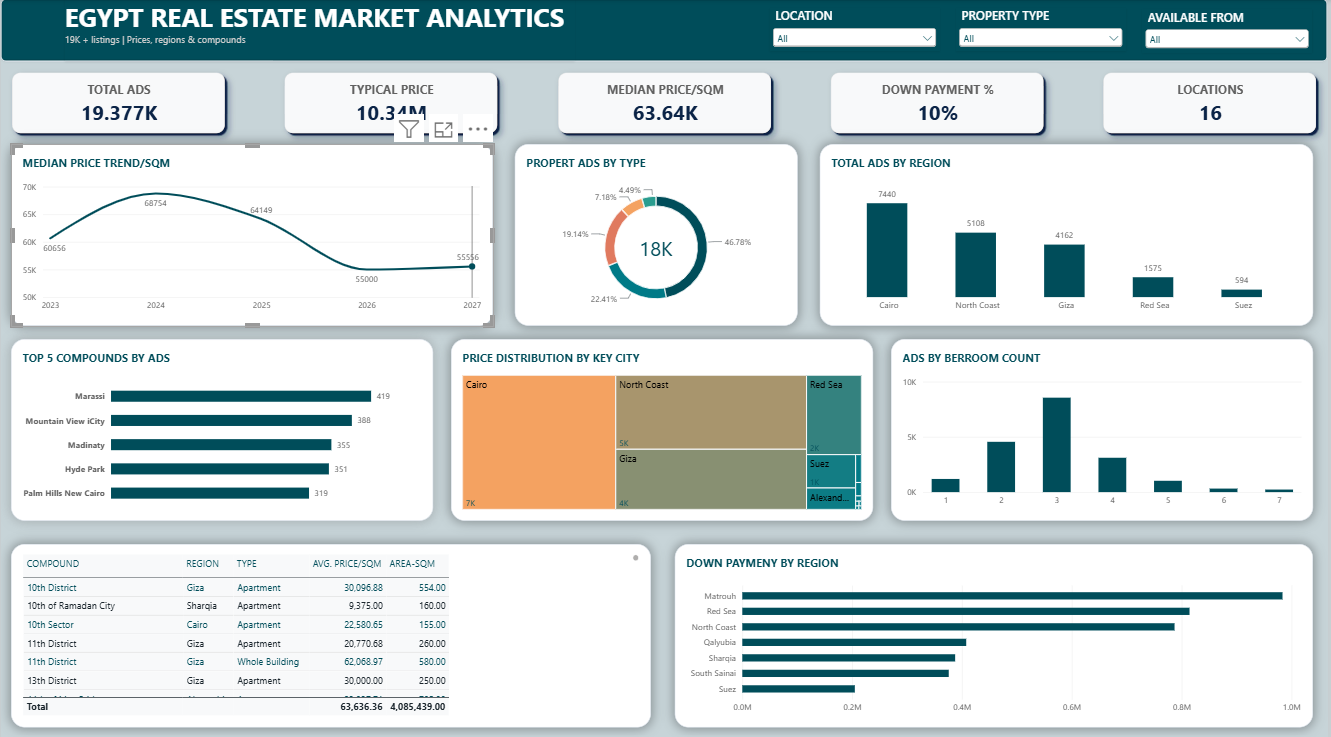

Layout of this report page (visuals, bound fields, positions):
{"tool":"powerbi","page":{"name":"Page 1","canvas":[1920,1080],"ordinal":0},"visuals":[{"type":"shape","box":[0,0,1920,90],"z":0},{"type":"textbox","box":[92.3,0,738.3,90.5],"z":1000},{"type":"slicer","fields":{"Values":["egypt_real_estate_clean.available_from"]},"box":[1652.2,14.5,246.1,63.3],"z":2000},{"type":"slicer","fields":{"Values":["egypt_real_estate_clean.type"]},"box":[1382.6,12.7,246.1,63.3],"z":3000},{"type":"slicer","fields":{"Values":["egypt_real_estate_clean.region"]},"box":[1112.9,12.7,246.1,63.3],"z":4000},{"type":"cardVisual","fields":{"Data":["Median(egypt_real_estate_clean.price)"]},"box":[395,90,340,120],"z":5000},{"type":"cardVisual","fields":{"Data":["Count(egypt_real_estate_clean.region)"]},"box":[1580,90,340,120],"z":6000},{"type":"cardVisual","fields":{"Data":["Median(egypt_real_estate_clean.price_per_sqm)"]},"box":[790,90,340,120],"z":7000},{"type":"cardVisual","fields":{"Data":["egypt_real_estate_clean.Total Listings"]},"box":[0,90,340,120],"z":8000},{"type":"cardVisual","fields":{"Data":["egypt_real_estate_clean.Median Down Payment %"]},"box":[1185,90,340,120],"z":9000},{"type":"lineChart","title":"MEDIAN PRICE TREND/SQM","fields":{"Category":["egypt_real_estate_clean.available_from.Variation.Date Hierarchy.Year"],"Y":["Median(egypt_real_estate_clean.price_per_sqm)"]},"box":[15,209.9,697.8,263.5],"z":10000},{"type":"donutChart","title":"PROPERT ADS BY TYPE","fields":{"Category":["egypt_real_estate_clean.type"],"Y":["egypt_real_estate_clean.Total Listings"]},"box":[744.1,209.9,409.6,263.5],"z":11000},{"type":"clusteredColumnChart","title":"TOTAL ADS BY REGION","fields":{"Category":["egypt_real_estate_clean.region"],"Y":["egypt_real_estate_clean.Total Listings"]},"box":[1185,209.9,714.2,263.5],"z":12000},{"type":"barChart","title":"TOP 5 COMPOUNDS BY ADS","fields":{"Category":["egypt_real_estate_clean.compound"],"Y":["egypt_real_estate_clean.Total Listings"]},"box":[14.4,491.9,611.3,263.5],"z":13000},{"type":"columnChart","title":"ADS BY BERROOM COUNT","fields":{"Category":["egypt_real_estate_clean.bedrooms_num"],"Y":["egypt_real_estate_clean.Total Listings"]},"box":[1288.5,491.9,611.3,263.5],"z":14000},{"type":"treemap","title":"PRICE DISTRIBUTION BY KEY CITY","fields":{"Group":["egypt_real_estate_clean.region"],"Values":["egypt_real_estate_clean.Total Listings"]},"box":[651.5,491.9,611.3,263.5],"z":15000},{"type":"tableEx","fields":{"Values":["egypt_real_estate_clean.compound","egypt_real_estate_clean.region","egypt_real_estate_clean.type","Median(egypt_real_estate_clean.price_per_sqm)","Sum(egypt_real_estate_clean.size_sqm)"]},"box":[14.4,788.3,926.2,265.5],"z":16000},{"type":"clusteredBarChart","title":"DOWN PAYMENY BY REGION","fields":{"Category":["egypt_real_estate_clean.region"],"Y":["Avg(egypt_real_estate_clean.down_payment)"]},"box":[975.6,788.3,924.2,265.5],"z":17000}]}

Visuals, with their boxes in screenshot pixels (x1, y1, x2, y2), scaled from the page's 1920x1080 canvas onto the 1331x737 screenshot:
shape: (left=0, top=0, right=1330, bottom=61)
textbox: (left=64, top=0, right=576, bottom=62)
slicer - egypt_real_estate_clean.available_from: (left=1145, top=10, right=1316, bottom=53)
slicer - egypt_real_estate_clean.type: (left=958, top=9, right=1129, bottom=52)
slicer - egypt_real_estate_clean.region: (left=771, top=9, right=942, bottom=52)
cardVisual - Median(egypt_real_estate_clean.price): (left=274, top=61, right=510, bottom=143)
cardVisual - Count(egypt_real_estate_clean.region): (left=1095, top=61, right=1330, bottom=143)
cardVisual - Median(egypt_real_estate_clean.price_per_sqm): (left=548, top=61, right=783, bottom=143)
cardVisual - egypt_real_estate_clean.Total Listings: (left=0, top=61, right=236, bottom=143)
cardVisual - egypt_real_estate_clean.Median Down Payment %: (left=821, top=61, right=1057, bottom=143)
"MEDIAN PRICE TREND/SQM" lineChart: (left=10, top=143, right=494, bottom=323)
"PROPERT ADS BY TYPE" donutChart: (left=516, top=143, right=800, bottom=323)
"TOTAL ADS BY REGION" clusteredColumnChart: (left=821, top=143, right=1317, bottom=323)
"TOP 5 COMPOUNDS BY ADS" barChart: (left=10, top=336, right=434, bottom=515)
"ADS BY BERROOM COUNT" columnChart: (left=893, top=336, right=1317, bottom=515)
"PRICE DISTRIBUTION BY KEY CITY" treemap: (left=452, top=336, right=875, bottom=515)
tableEx - egypt_real_estate_clean.compound x egypt_real_estate_clean.region: (left=10, top=538, right=652, bottom=719)
"DOWN PAYMENY BY REGION" clusteredBarChart: (left=676, top=538, right=1317, bottom=719)
